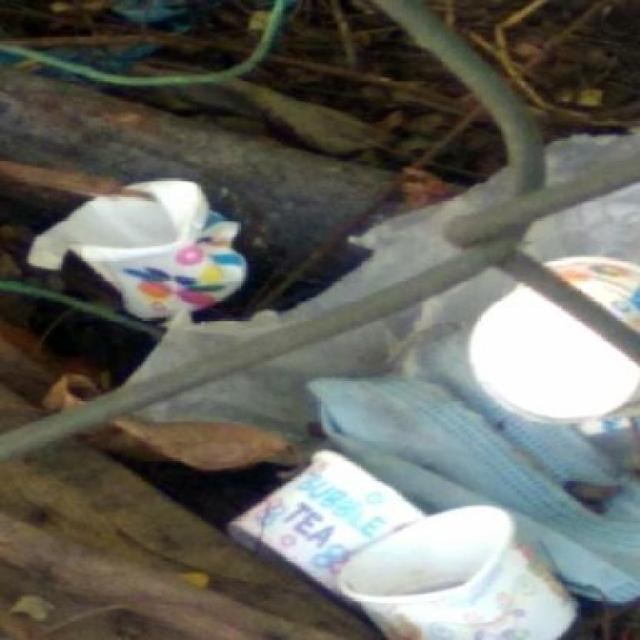garbage: (42, 146, 640, 617)
